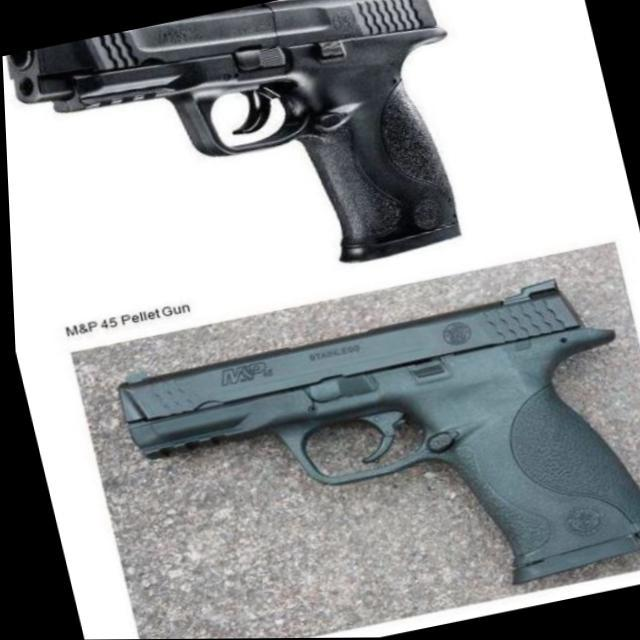weapon: (102, 268, 640, 640), (0, 0, 495, 322)
